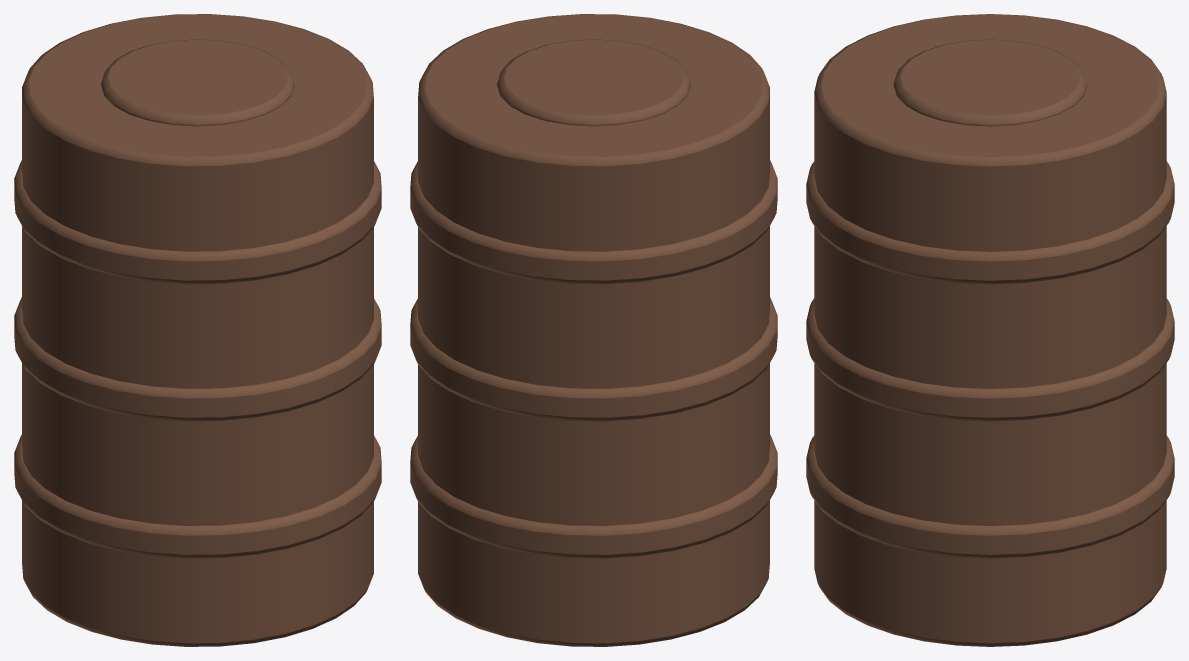
File: SM_Barrel.glb
The picture shows the model from 3 angles, left to right: view 1: azimuth 30°, elevation 25°; view 2: azimuth 150°, elevation 25°; view 3: azimuth 270°, elevation 25°; orthographic projection.
Visible parts, largest first — view 1: SM_Barrel; view 2: SM_Barrel; view 3: SM_Barrel.
Boxes of the visible parts, x1,y1,x2,y2 form: SM_Barrel: (14,14,381,646); SM_Barrel: (410,14,777,646); SM_Barrel: (806,14,1174,646).
Bounding box in the file's own units: 0.627 × 0.935 × 0.627.
